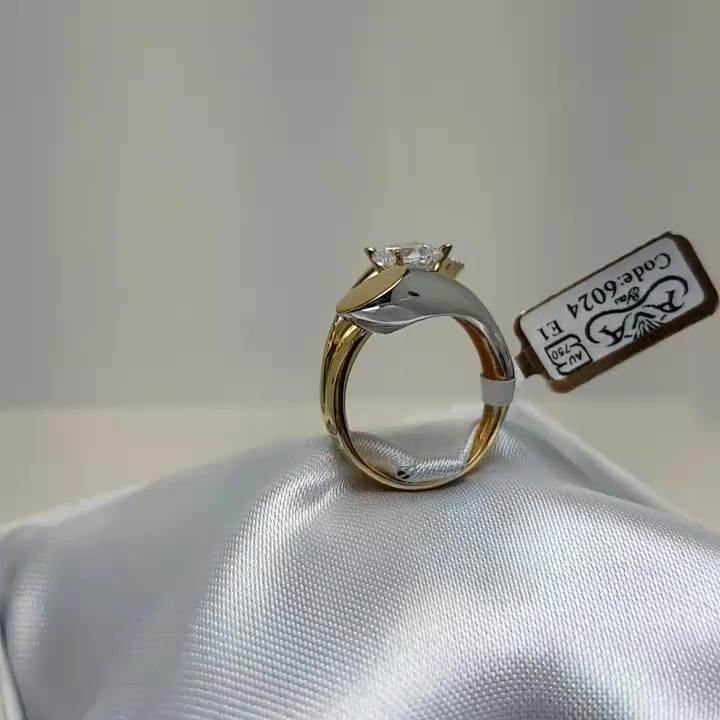Ring 7: (288, 232, 515, 515)
